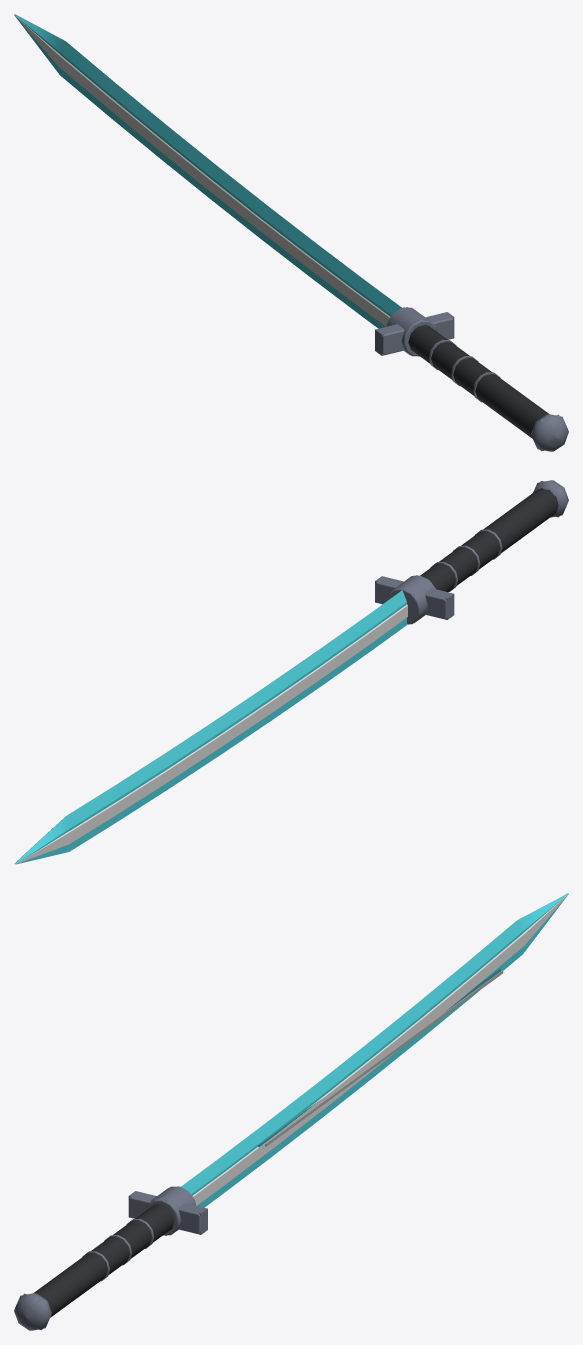
File: q_blinkblade.glb
3 renders of one model, top to bottom at view 1: azimuth 30°, elevation 25°; view 2: azimuth 150°, elevation 25°; view 3: azimuth 330°, elevation 25°, orthographic.
Visible parts, largest first — view 1: L0, L1; view 2: L0, L1; view 3: L0, L1.
Part boxes in pixels (x1,y1,x2,y2): L0: (14,14,568,451); L1: (375,307,567,451); L0: (14,480,568,864); L1: (375,481,560,623); L0: (14,893,568,1330); L1: (15,1188,207,1330).
Size of the model in its own units: 0.085 by 0.0629 by 1.1.
